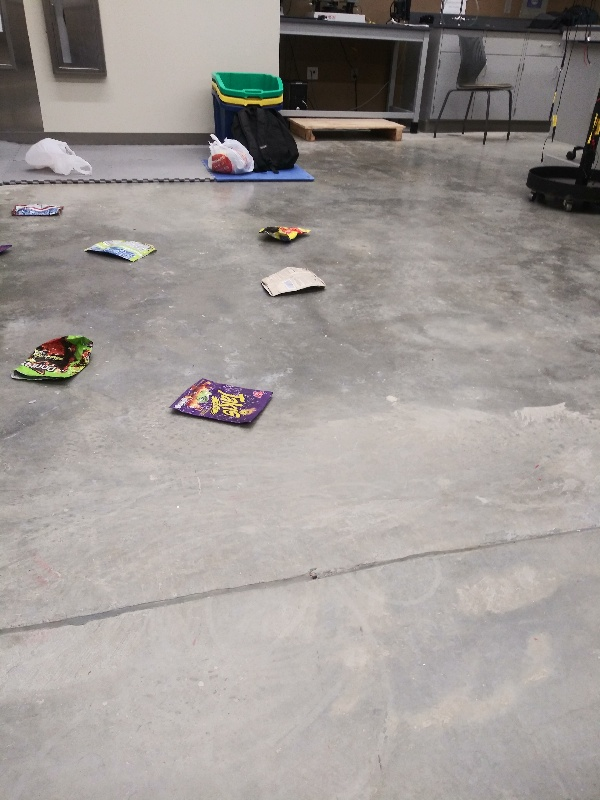bag: (173, 375, 278, 432), (7, 330, 98, 390), (81, 232, 159, 268), (254, 263, 333, 298), (254, 220, 315, 244), (11, 201, 66, 220)
